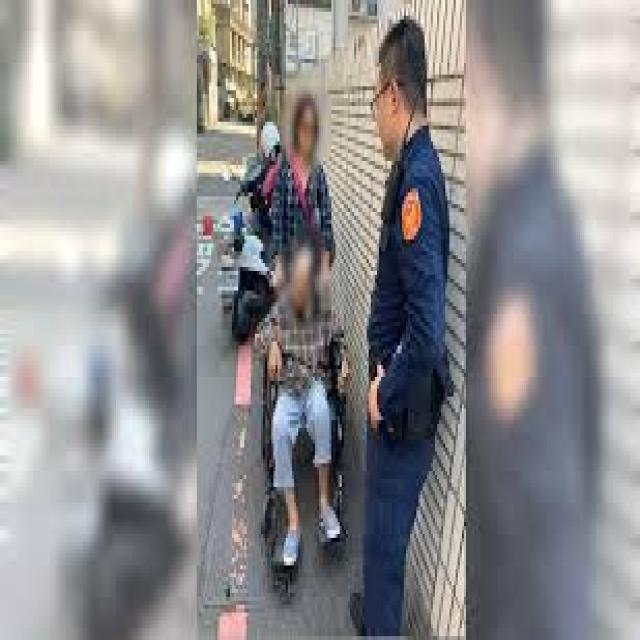wheelchairs: (249, 287, 354, 569)
